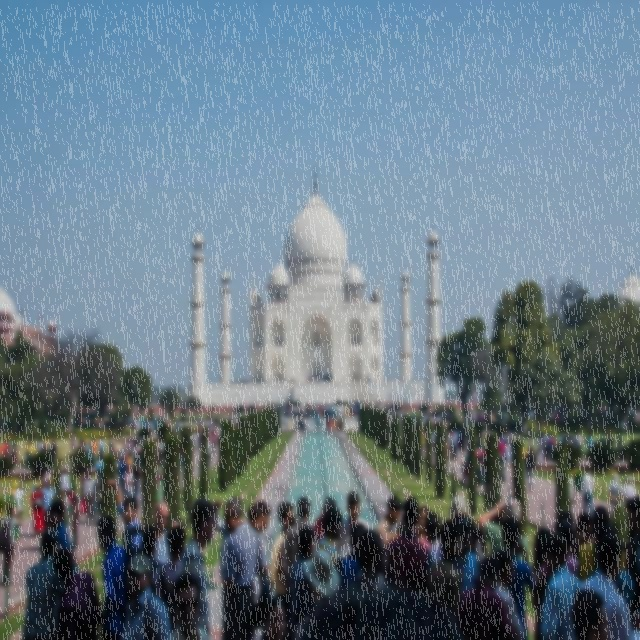pessoa: (222, 494, 269, 640), (20, 528, 80, 640), (578, 532, 640, 640), (178, 494, 218, 640), (539, 530, 589, 640), (349, 528, 396, 640), (50, 544, 104, 640), (456, 554, 516, 640), (384, 497, 434, 597), (584, 522, 636, 618), (155, 570, 223, 640), (426, 518, 464, 640), (120, 554, 172, 640), (96, 516, 132, 640), (502, 516, 536, 640), (579, 505, 625, 585), (289, 524, 318, 640), (535, 520, 579, 596), (212, 496, 235, 640), (284, 496, 317, 596), (492, 548, 526, 640), (270, 500, 298, 600), (530, 526, 554, 640), (152, 524, 187, 602), (105, 479, 143, 550), (336, 490, 372, 560), (122, 523, 164, 579), (247, 502, 264, 640), (624, 494, 640, 640), (452, 520, 480, 598), (570, 588, 610, 640), (0, 502, 23, 588), (314, 504, 344, 568), (374, 494, 404, 550), (48, 500, 75, 552), (152, 501, 172, 565), (260, 596, 288, 640), (422, 511, 443, 566), (469, 518, 491, 570), (72, 408, 116, 432), (30, 480, 45, 538), (40, 479, 56, 531), (9, 481, 25, 532), (414, 505, 432, 550), (581, 466, 595, 518), (5, 488, 18, 542), (0, 417, 44, 432), (522, 446, 536, 492), (608, 473, 624, 513), (70, 486, 80, 548), (574, 511, 592, 545), (253, 500, 272, 531), (84, 471, 95, 524), (263, 399, 290, 419), (448, 494, 470, 518), (132, 455, 142, 505), (92, 473, 101, 527), (220, 378, 298, 384), (118, 455, 128, 499), (201, 412, 232, 426), (122, 465, 135, 498), (622, 531, 632, 573), (624, 476, 638, 504), (116, 436, 144, 449), (61, 488, 70, 528), (156, 461, 164, 504), (314, 508, 324, 542), (115, 450, 122, 498), (60, 468, 71, 498), (476, 432, 482, 486), (488, 408, 506, 426), (411, 408, 442, 418), (549, 404, 566, 422), (49, 438, 58, 469), (382, 376, 428, 382), (90, 437, 100, 464), (568, 477, 576, 510), (616, 431, 624, 464), (384, 406, 410, 416), (80, 472, 86, 514), (546, 431, 554, 462), (542, 432, 550, 462), (432, 426, 440, 456), (598, 404, 618, 416), (536, 434, 544, 462), (323, 496, 337, 512), (304, 374, 332, 382), (600, 430, 614, 446), (441, 408, 457, 422), (466, 411, 483, 424), (11, 441, 18, 471), (504, 440, 511, 470), (42, 468, 52, 489), (499, 459, 507, 485), (450, 433, 457, 461), (464, 450, 470, 482), (132, 450, 142, 469), (481, 444, 486, 482), (630, 405, 640, 424), (67, 489, 74, 516), (128, 448, 135, 474), (27, 441, 37, 459), (32, 475, 42, 493), (178, 405, 198, 414), (125, 451, 133, 473), (558, 510, 574, 521), (96, 453, 105, 471), (6, 442, 14, 462), (336, 402, 346, 418), (171, 516, 184, 528), (142, 416, 154, 429), (539, 432, 544, 462), (78, 437, 88, 452), (459, 461, 466, 482), (70, 429, 76, 453), (160, 438, 166, 462), (446, 432, 452, 456), (232, 412, 240, 430), (165, 413, 173, 431), (366, 402, 384, 410), (576, 430, 583, 450), (528, 432, 534, 454), (388, 416, 394, 438), (211, 431, 216, 457), (119, 448, 127, 464), (216, 426, 222, 447), (448, 431, 454, 452), (457, 427, 462, 452), (2, 439, 8, 459), (86, 440, 92, 460), (193, 430, 199, 450), (500, 436, 504, 466), (350, 400, 367, 407), (208, 438, 212, 467), (37, 438, 45, 452), (562, 430, 570, 444), (572, 432, 579, 448), (454, 429, 458, 457), (445, 433, 449, 461), (422, 419, 426, 447), (197, 429, 202, 451), (98, 437, 104, 455), (586, 432, 592, 450), (460, 431, 464, 457), (509, 432, 522, 440), (34, 443, 39, 463), (308, 408, 318, 418), (26, 438, 34, 450), (288, 416, 294, 432), (300, 416, 306, 432), (154, 447, 160, 463), (398, 416, 404, 432), (446, 397, 462, 403), (298, 417, 304, 432), (127, 420, 136, 430), (552, 434, 558, 448), (207, 434, 212, 450), (317, 404, 322, 420), (180, 448, 184, 468), (400, 398, 410, 406), (120, 450, 126, 462), (108, 434, 112, 452), (213, 427, 217, 445), (154, 417, 158, 435), (192, 419, 198, 431), (554, 521, 561, 531), (136, 418, 140, 435), (326, 401, 330, 418), (42, 440, 48, 451), (558, 432, 564, 443), (40, 479, 46, 490), (472, 397, 477, 410), (284, 416, 288, 432), (340, 416, 344, 432), (319, 404, 323, 420), (126, 446, 132, 456), (175, 421, 179, 436), (281, 417, 285, 432), (190, 430, 193, 450), (567, 435, 573, 445), (242, 399, 254, 404), (308, 402, 318, 408), (296, 416, 300, 430), (315, 416, 319, 430), (346, 404, 350, 418), (348, 404, 352, 418), (138, 416, 142, 430), (302, 404, 306, 418), (306, 404, 310, 418), (333, 404, 337, 418), (300, 403, 304, 417), (294, 405, 298, 418), (433, 417, 438, 427), (328, 419, 332, 431), (530, 410, 534, 422), (511, 416, 515, 428), (322, 403, 325, 419), (100, 469, 104, 481), (339, 416, 342, 431), (290, 404, 293, 419), (208, 428, 212, 439), (160, 412, 163, 426), (582, 437, 588, 444), (465, 436, 468, 450), (198, 420, 202, 430), (436, 414, 441, 422), (509, 435, 514, 443), (506, 436, 511, 444), (504, 432, 508, 442), (112, 443, 116, 453), (128, 416, 138, 420), (482, 410, 485, 423), (329, 405, 332, 418), (356, 407, 359, 420), (326, 414, 328, 432), (336, 418, 339, 430), (432, 433, 434, 451), (430, 415, 433, 427), (160, 456, 163, 468), (136, 406, 140, 415), (331, 406, 334, 418), (255, 408, 262, 413), (180, 418, 183, 429), (295, 421, 298, 432), (293, 405, 296, 416), (332, 416, 334, 432), (372, 398, 376, 406), (378, 398, 382, 406), (514, 420, 518, 428), (463, 424, 466, 434), (354, 408, 357, 418), (52, 460, 55, 470), (351, 376, 356, 382), (338, 418, 340, 432), (466, 416, 468, 430), (298, 404, 300, 418), (300, 402, 302, 416), (210, 428, 213, 436), (334, 418, 336, 430), (528, 410, 530, 422), (154, 414, 158, 420), (419, 398, 422, 406), (94, 476, 98, 482), (244, 419, 247, 427), (463, 418, 466, 426), (162, 406, 165, 414), (578, 404, 582, 410), (290, 398, 294, 404), (351, 409, 354, 416), (467, 403, 470, 410), (414, 418, 416, 428), (376, 398, 378, 406), (397, 398, 399, 406), (425, 398, 427, 406), (86, 468, 90, 472), (16, 442, 20, 446), (240, 412, 244, 416), (592, 439, 594, 447), (520, 414, 522, 422), (138, 418, 140, 426), (432, 418, 434, 426), (49, 442, 52, 447), (385, 400, 388, 404), (430, 398, 432, 404), (12, 442, 14, 448), (423, 398, 425, 404), (329, 402, 332, 406), (389, 399, 391, 404), (54, 439, 56, 444), (368, 377, 370, 382), (566, 429, 568, 434), (433, 401, 436, 404), (395, 400, 397, 404), (0, 448, 1, 456), (292, 404, 294, 408), (304, 414, 306, 418), (322, 402, 324, 406), (125, 449, 126, 456), (12, 440, 15, 442), (304, 404, 306, 406), (333, 402, 335, 404)
